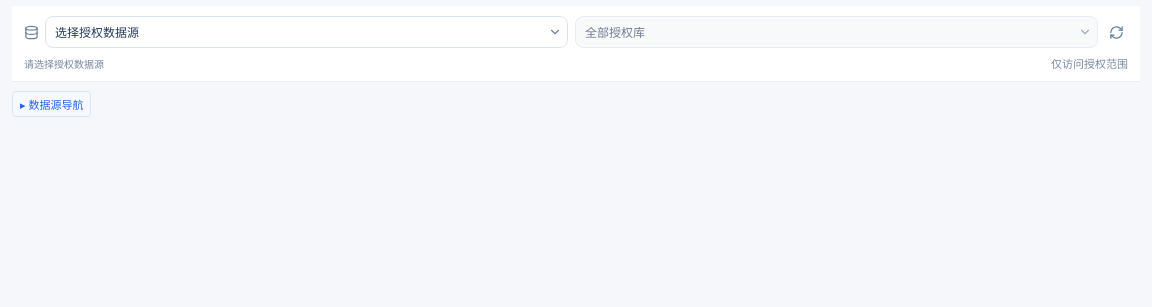
Test: Schema Explorer API integration › rejects a revoked namespace on refresh without silently switching to all authorized databases
This screenshot has width=1152, height=307.
Step 1. Click the button "▸ 数据源导航" → (52, 104), box [12,91,91,117]
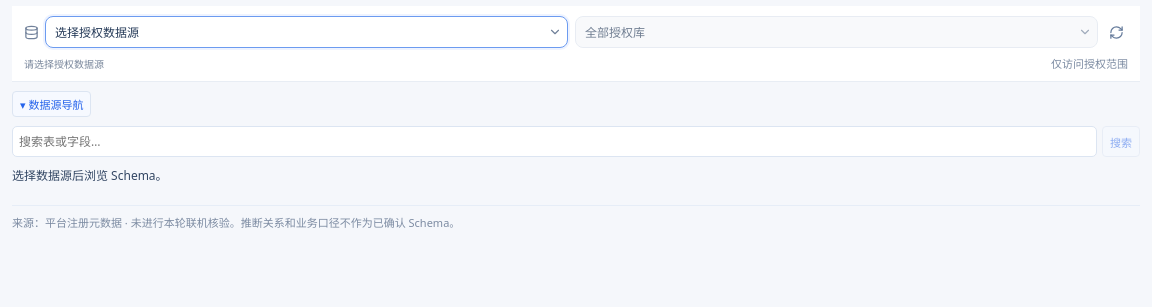
Step 2. Click the dropdown named "选择数据源" → (294, 32), box [46,17,542,47]
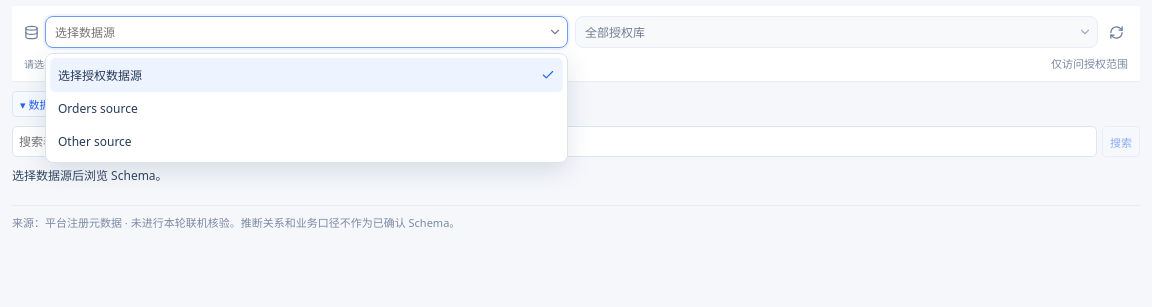
Now the option "Orders source" is shown
Step 3. Click the option "Orders source" → (98, 108), box [50,92,563,125]
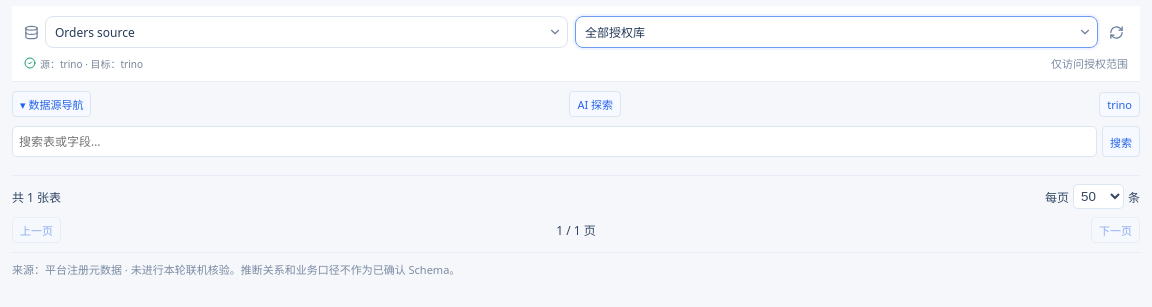
Step 4. Click the dropdown named "选择数据库或 Schema" → (824, 32), box [576,17,1072,47]
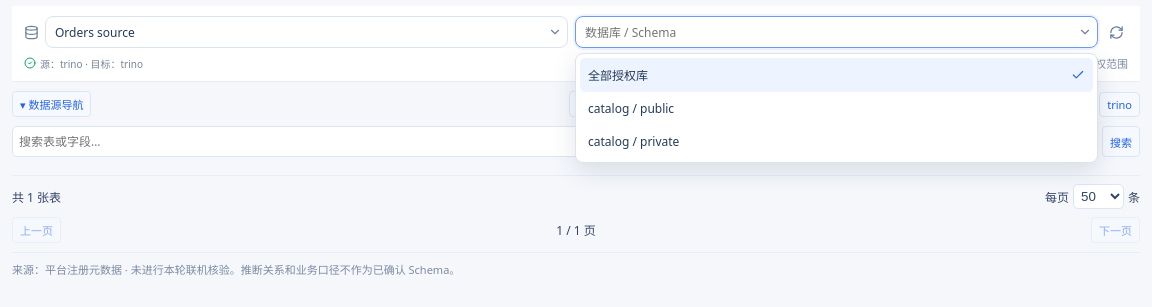
Now the option "catalog / public" is shown
Step 5. Click the option "catalog / public" → (631, 108), box [580,92,1093,125]
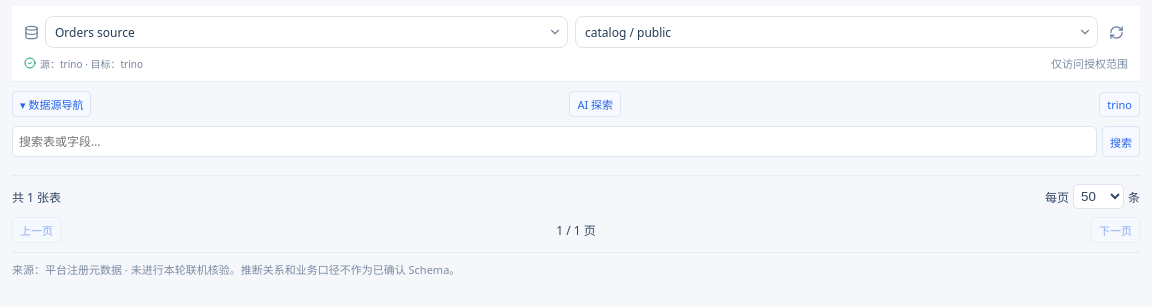
Step 6. Click the button named "刷新数据库上下文" → (1116, 32), box [1105,18,1128,46]
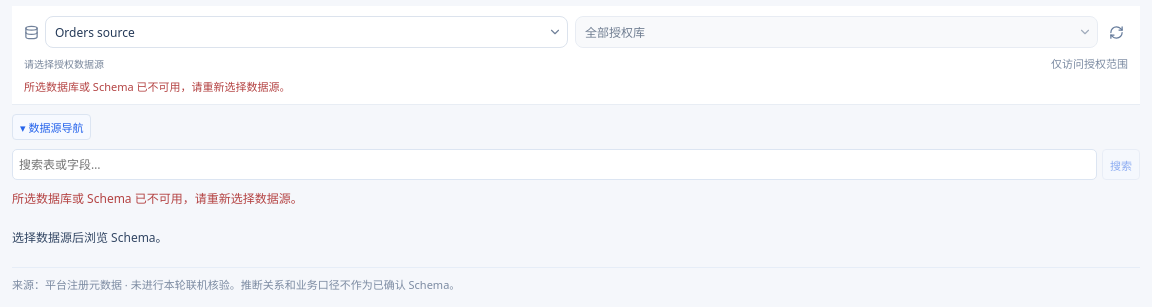
Now the message "所选数据库或 Schema 已不可用，请重新选择数据源。" below "仅访问授权范围" is shown, box [24,79,290,94]
Now the dropdown named "选择数据库或 Schema" is disabled, box [576,17,1072,47]
